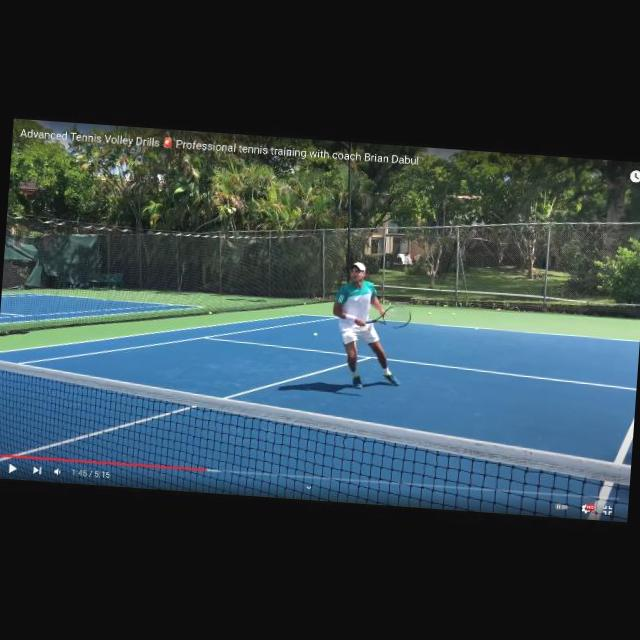Tennis Ball: (313, 332, 316, 336), (208, 312, 211, 314), (442, 304, 444, 306), (446, 305, 448, 307), (303, 302, 305, 304), (452, 312, 454, 314), (428, 312, 430, 314)
